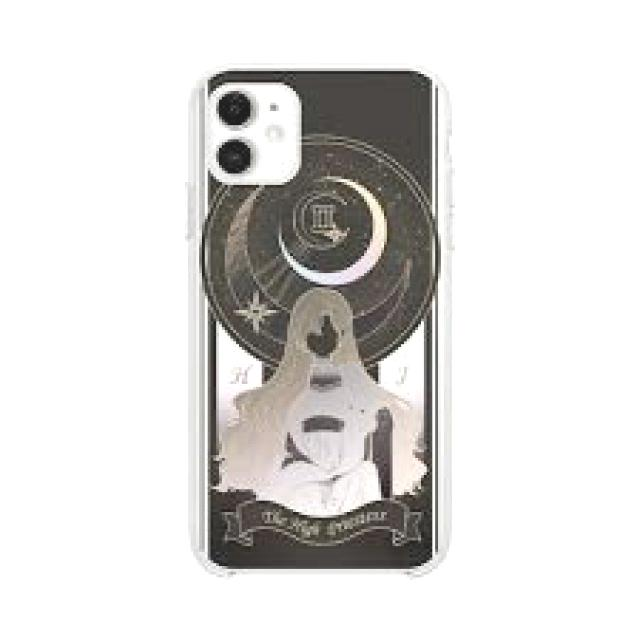lens: (208, 85, 294, 183)
phone: (185, 60, 455, 587)
